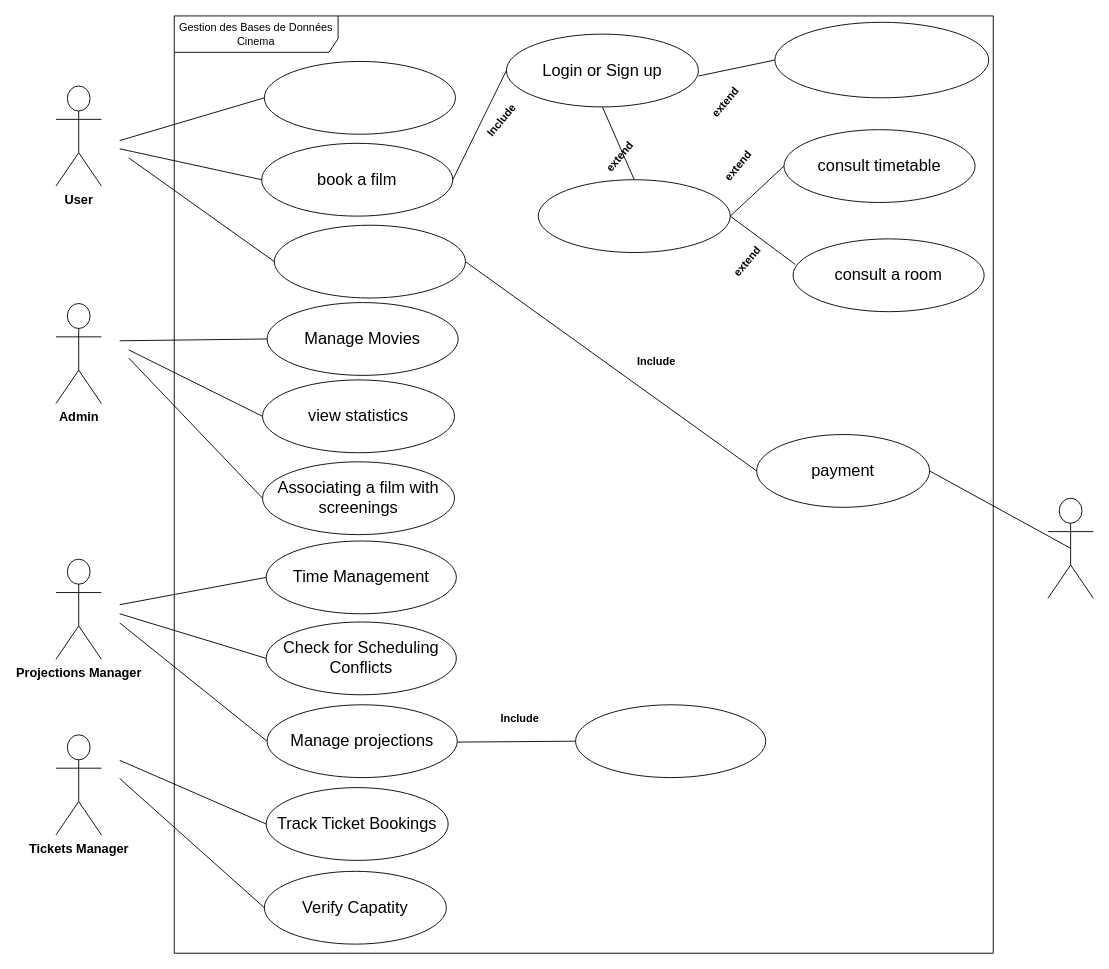
The diagram is 1109 pixels wide and 969 high, and some of its shapes have lost their labels. The shapes that lost their labels are listed below. From the top down, each one's centre as x and y in pixels, then its label:
point (881, 59): View reservation history
point (359, 97): Home Page
point (633, 216): View Movies and Showtimes
point (369, 261): Book Ticket
point (1070, 547): Bank
point (670, 741): specifying date, time and room
